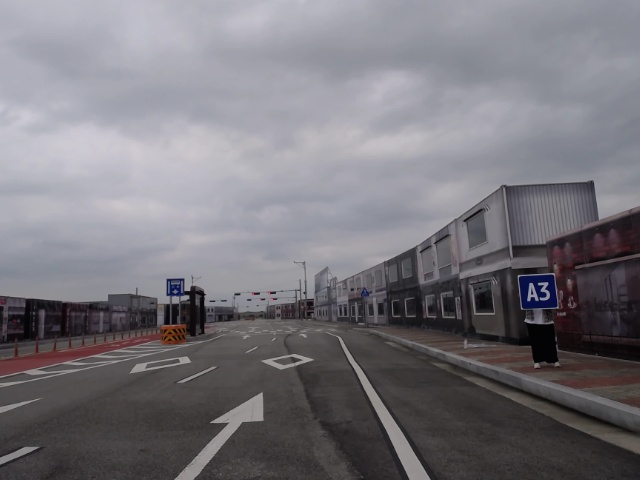delivery_a3: (518, 274, 559, 310)
